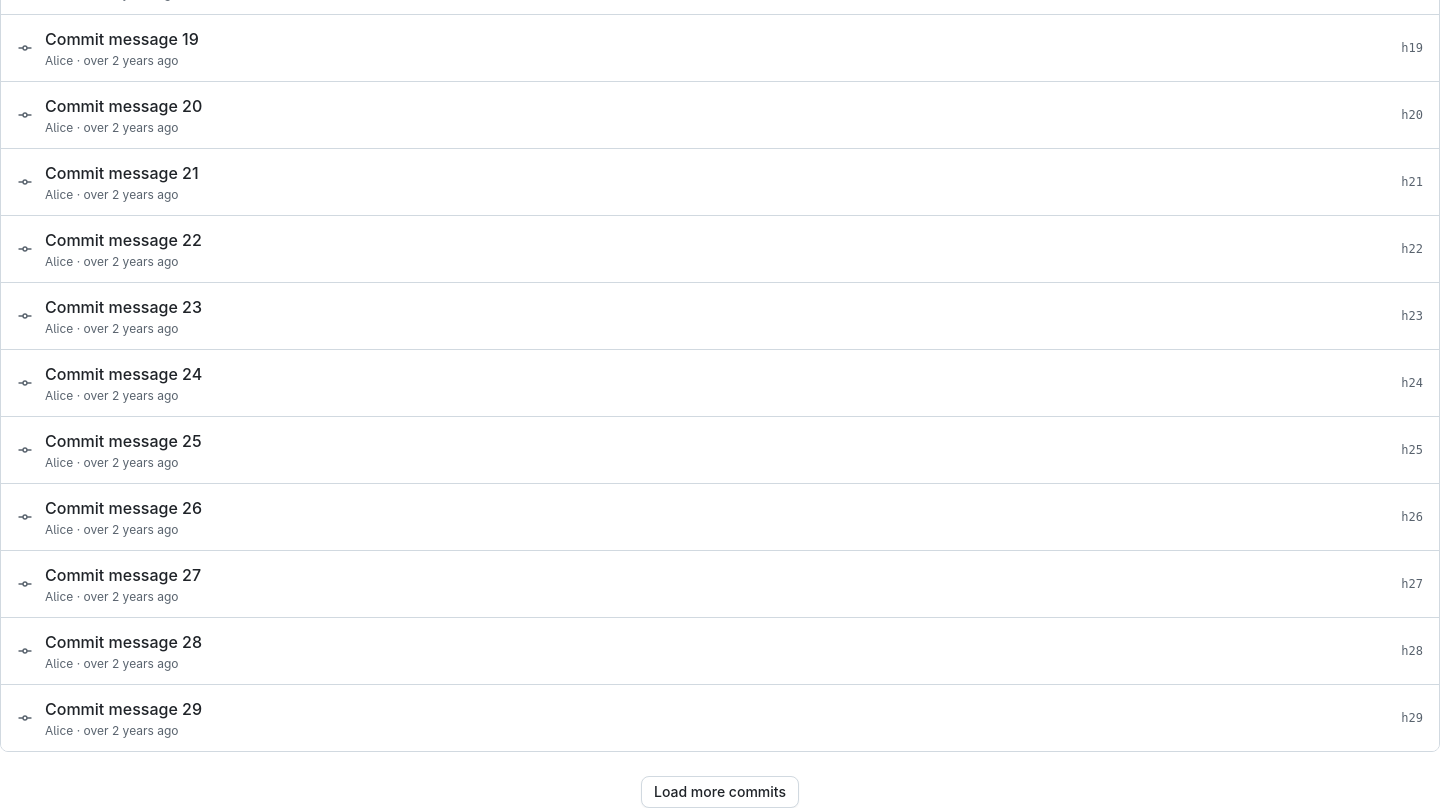
Scenario: CommitList — pagination › appends the fetched page below the first one
(page scrolled)
Click the button "Load more commits": (720, 792) x1=641 y1=776 x2=799 y2=807
(page scrolled)
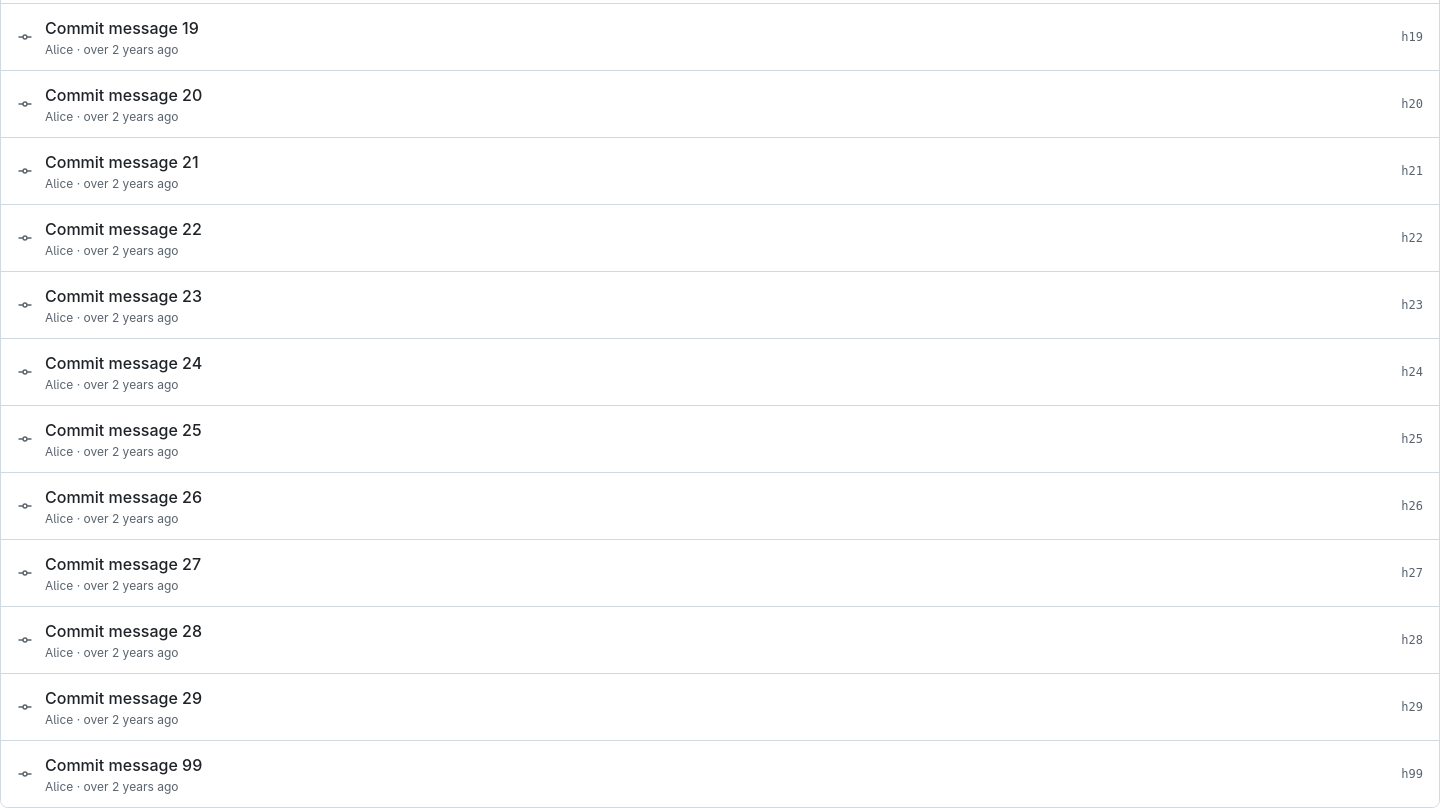
Expected: the link "Commit message 99" is shown, x1=45 y1=755 x2=202 y2=775
